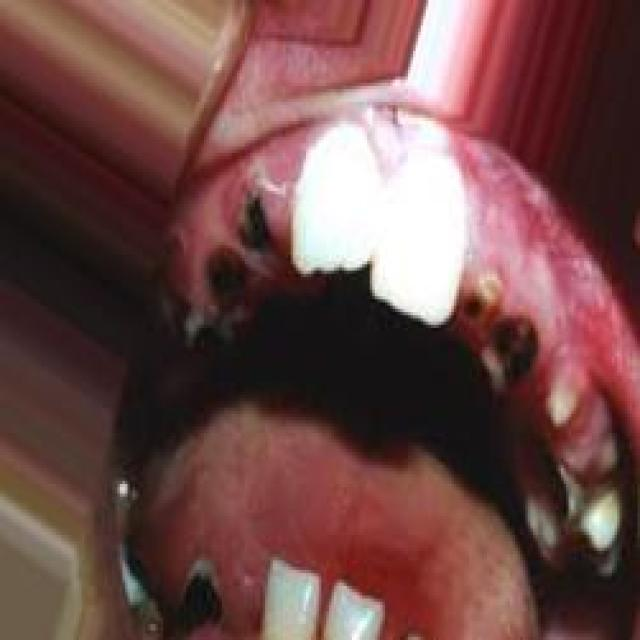caries: (525, 446, 600, 554), (476, 302, 553, 389), (219, 168, 280, 276), (119, 541, 184, 640), (192, 229, 262, 318), (164, 287, 238, 360), (181, 554, 242, 640), (465, 258, 513, 336)
